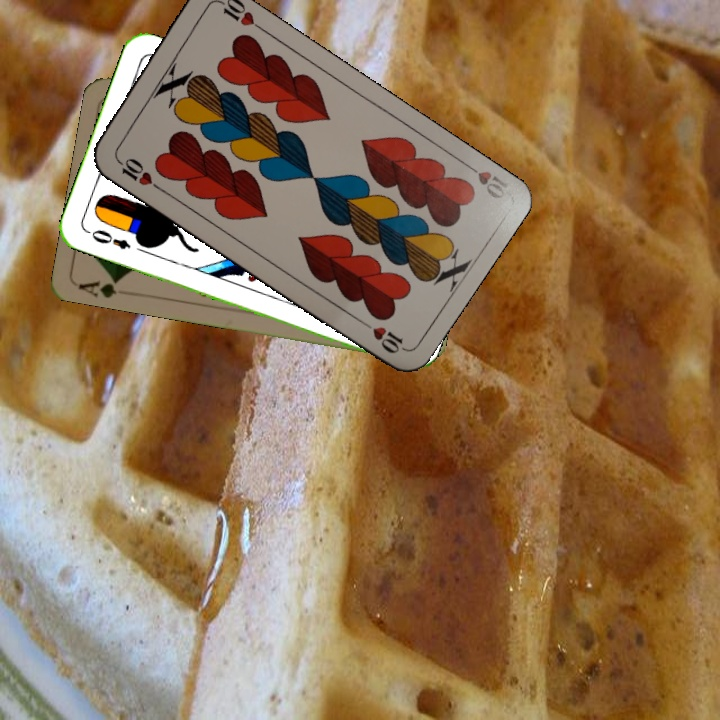EO: (82, 225, 133, 252)
GA: (75, 273, 124, 300)
H10: (458, 156, 512, 202), (112, 153, 163, 193)
